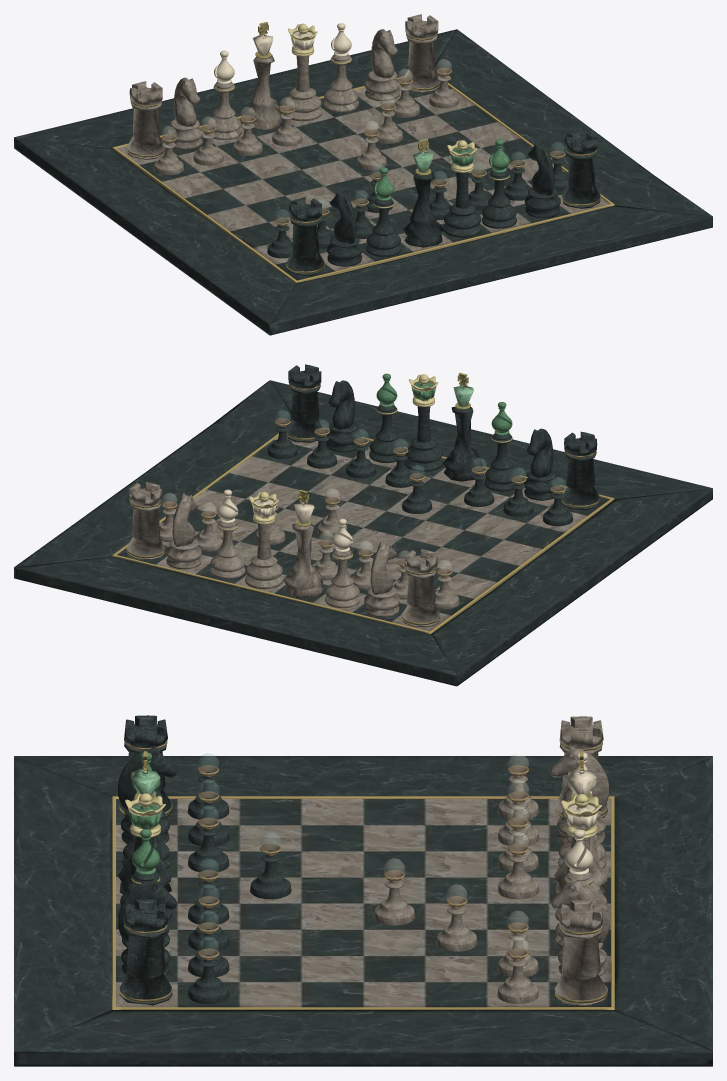
File: ABeautifulGame.lod1.glb
3 renders of one model, top to bottom at view 1: azimuth 30°, elevation 25°; view 2: azimuth 150°, elevation 25°; view 3: azimuth 270°, elevation 25°, orthographic. The views are drawn at different scales.
Visible parts, largest first — view 1: Chessboard, Pawn_Body_Shared (×14), Castle_B1, Castle_B2, Castle_W2, Queen_B, King_B, Castle_W1, Queen_W, King_W, Knight_W1, Knight_B1 (+6 smaller); view 2: Chessboard, Pawn_Body_Shared (×13), Castle_W2, Castle_W1, Castle_B1, King_W, Castle_B2, Queen_W, Queen_B, King_B, Knight_W1, Knight_W2 (+6 smaller); view 3: Chessboard, Pawn_Body_Shared (×16), Castle_B2, Castle_W1, Knight_B1, Knight_W2, Castle_B1, Castle_W2, King_W, King_B, Queen_B, Queen_W (+6 smaller).
Part boxes in pixels (x1,y1,x2,y2): Chessboard: (14,29,712,335); Pawn_Body_Shared (×14): (154,67,568,258); Castle_B1: (286,197,324,275); Castle_B2: (562,130,600,208); Castle_W2: (127,81,165,159); Queen_B: (443,140,481,237); King_B: (403,138,443,247); Castle_W1: (404,14,440,92); Queen_W: (284,23,322,121); King_W: (243,22,282,130); Knight_W1: (364,29,400,100); Knight_B1: (327,190,362,266); Chessboard: (14,380,712,686); Pawn_Body_Shared (×13): (195,418,573,609); Castle_W2: (401,549,440,627); Castle_W1: (126,482,164,560); Castle_B1: (561,431,599,509); King_W: (283,489,322,598); Castle_B2: (286,364,322,442); Queen_W: (244,491,283,588); Queen_B: (404,374,443,471); King_B: (443,373,482,481); Knight_W1: (166,493,201,569); Knight_W2: (364,541,399,617); Chessboard: (14,756,712,1066); Pawn_Body_Shared (×16): (187,765,539,1003); Castle_B2: (119,899,172,1005); Castle_W1: (555,900,607,1006); Knight_B1: (118,746,177,844); Knight_W2: (550,746,609,843); Castle_B1: (119,715,172,817); Castle_W2: (555,716,607,817); King_W: (554,751,608,893); King_B: (117,751,171,894); Queen_B: (120,793,171,920); Queen_W: (555,794,607,921).
Size of the model in its own units: 0.7054 by 0.169 by 0.7054.
Materials: 15 (13 with a texture image).
